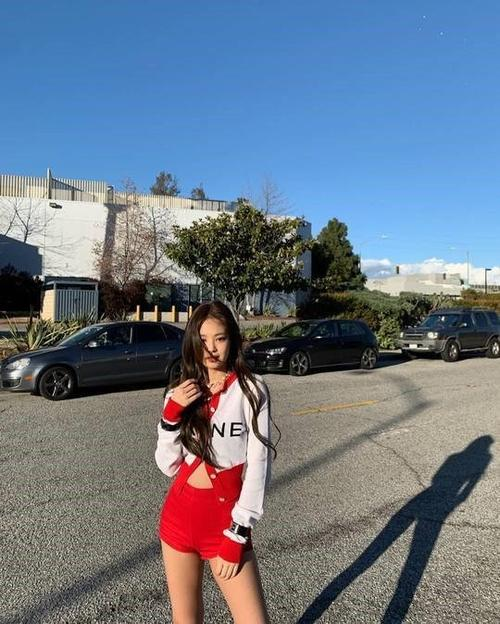no_mask: (176, 301, 245, 377)
